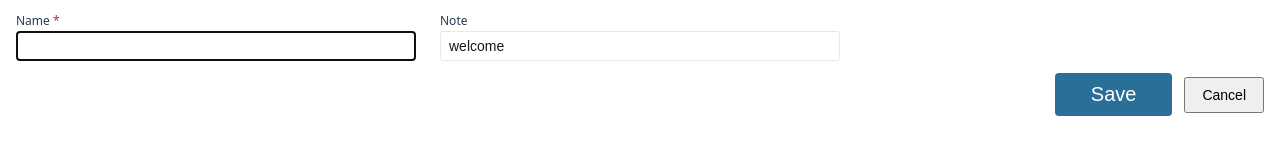
Scenario: saving (REQ-037/059) › the save sweep still runs — an empty required field never travels
The image size is (1280, 160).
Click the button "Save": click(1114, 94) [1055,73,1172,116]
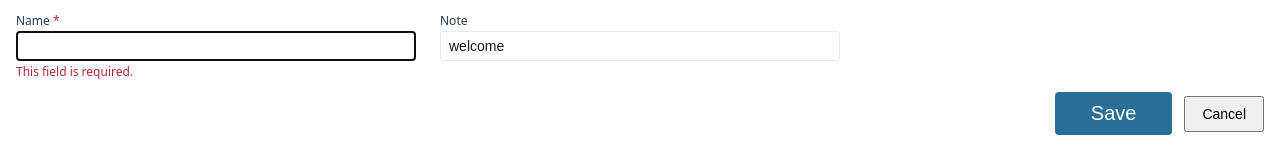
expect the text "This field is required." is shown: met, box [16,63,133,80]
